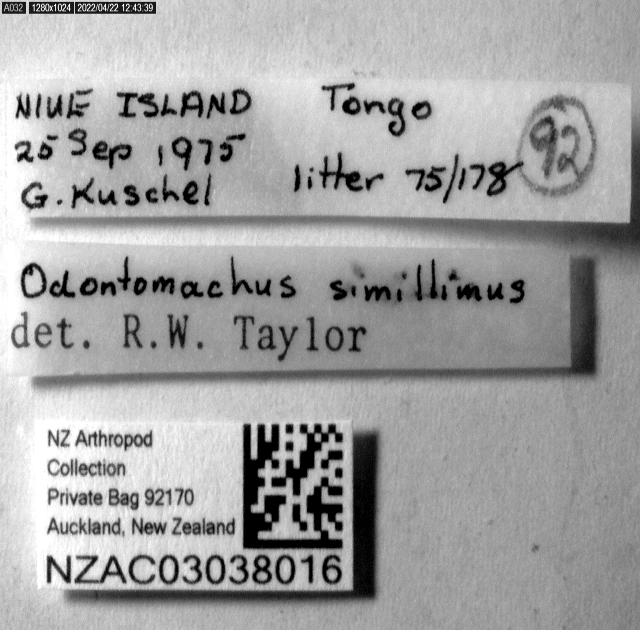hand_label: (6, 78, 631, 223)
mixed_label: (8, 241, 571, 377)
typed_label: (36, 422, 354, 592)
